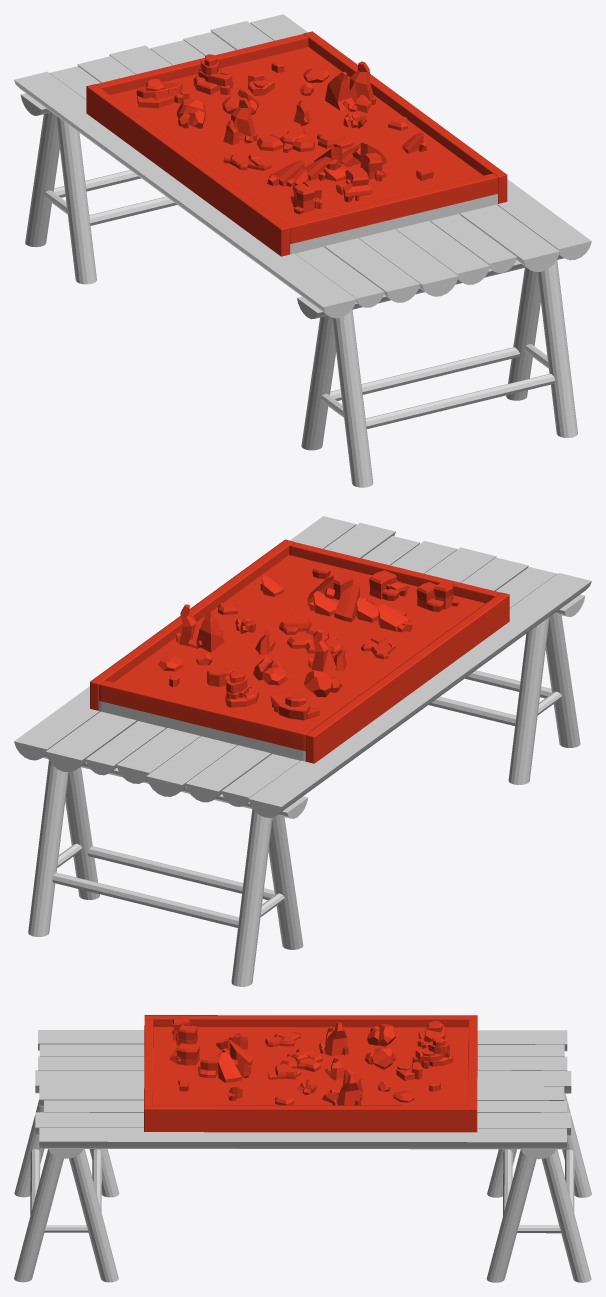
Rendered from greenTable.fbx.
3 renders of one model, top to bottom at view 1: azimuth 30°, elevation 25°; view 2: azimuth 150°, elevation 25°; view 3: azimuth 270°, elevation 25°, orthographic. The views are drawn at different scales.
Visible parts, largest first — view 1: Rock Type3 04 mesh; view 2: Rock Type3 04 mesh; view 3: Rock Type3 04 mesh.
Boxes of the visible parts, <box> form: Rock Type3 04 mesh: <box>14,14,591,487</box>; Rock Type3 04 mesh: <box>14,516,591,986</box>; Rock Type3 04 mesh: <box>14,1015,591,1282</box>.
Size of the model in its own units: 101 by 83.09 by 219.
